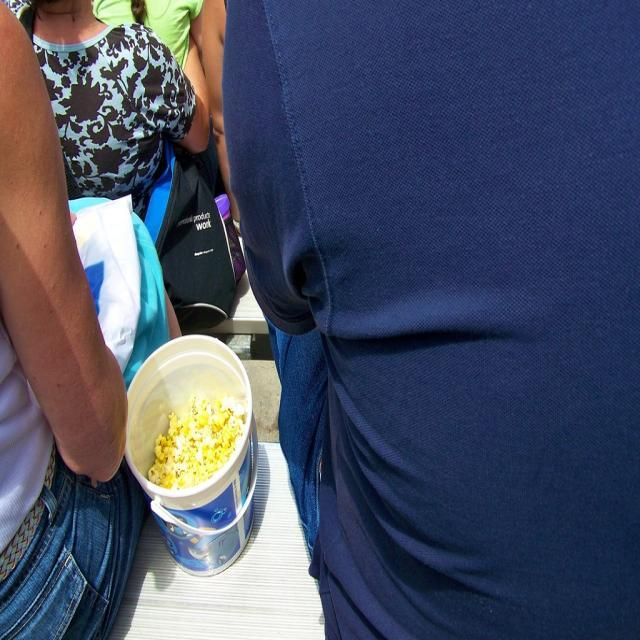Popcorn: (147, 396, 245, 492)
